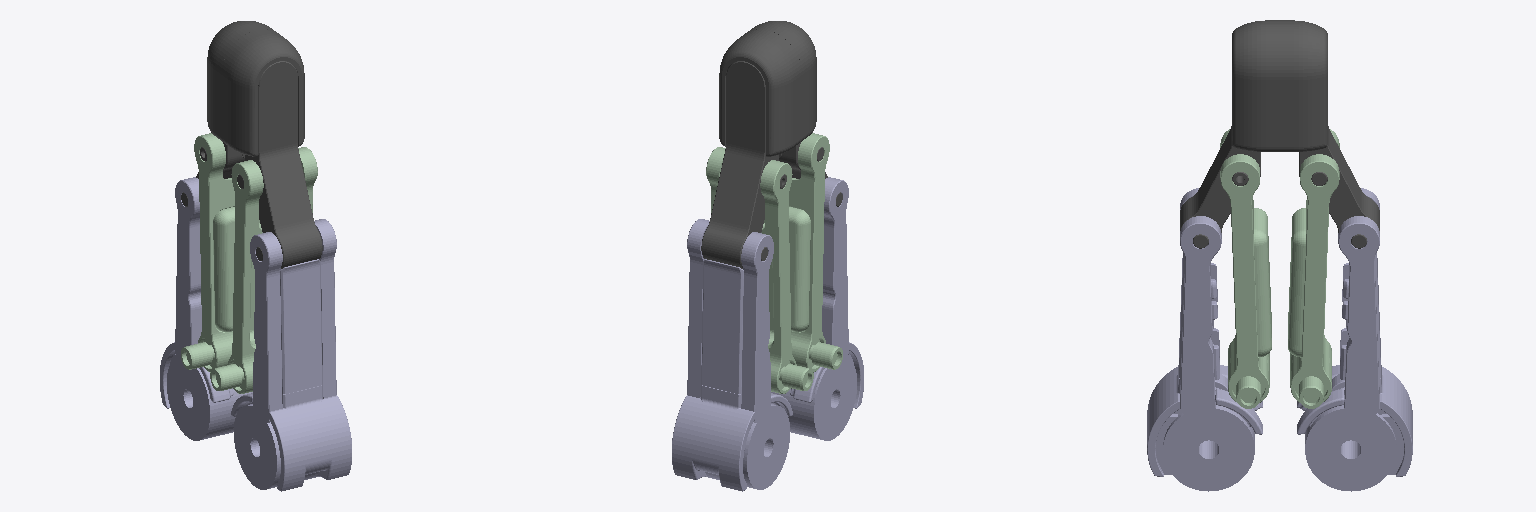
robot.urdf — rg2_gripper:
<?xml version="1.0" ?>
<!-- =================================================================================== -->
<!-- |    This document was autogenerated by xacro from rg2_gripper.xacro              | -->
<!-- |    EDITING THIS FILE BY HAND IS NOT RECOMMENDED                                 | -->
<!-- =================================================================================== -->
<robot name="rg2_gripper">
  <material name="silver_default">
    <color rgba="0.700 0.700 0.700 1.000"/>
  </material>
  <material name="blue_default">
    <color rgba="0.700 0.700 0.800 1.000"/>
  </material>
  <material name="dark_default">
    <color rgba="0.400 0.400 0.400 1.000"/>
  </material>
  <material name="green_default">
    <color rgba="0.700 0.800 0.700 1.000"/>
  </material>


  <link name="base_link">
    <inertial>
      <origin rpy="0 0 0" xyz="-0.00033928396113482284 0.0001550803374992693 0.06397335096404132"/>
      <mass value="0.7151802197889529"/>
      <inertia ixx="0.001268" ixy="0.0" ixz="-1.2e-05" iyy="0.001154" iyz="3e-06" izz="0.000357"/>
    </inertial>
    <visual>
      <origin rpy="0 0 0" xyz="0 0 0"/>
      <geometry>
        <mesh filename="meshes/rg2_gripper/base_link.obj" scale="0.001 0.001 0.001"/>
      </geometry>
      <material name="silver_default"/>
    </visual>
    <collision>
      <origin rpy="0 0 0" xyz="0 0 0"/>
      <geometry>
        <mesh filename="meshes/rg2_gripper/base_link.obj" scale="0.001 0.001 0.001"/>
      </geometry>
    </collision>
  </link>
  <link name="left_outer_link_1">
    <inertial>
      <origin rpy="0 0 0" xyz="0.009999996523330909 0.0017814726549052681 0.012228209292930586"/>
      <mass value="0.03836739327168093"/>
      <inertia ixx="1.4e-05" ixy="0.0" ixz="0.0" iyy="1.4e-05" iyz="-0.0" izz="3e-06"/>
    </inertial>
    <visual>
      <origin rpy="0 0 0" xyz="0.0103 -0.01705 -0.12275"/>
      <geometry>
        <mesh filename="meshes/rg2_gripper/left_outer_link_1.obj" scale="0.001 0.001 0.001"/>
      </geometry>
      <material name="blue_default"/>
    </visual>
    <collision>
      <origin rpy="0 0 0" xyz="0.0103 -0.01705 -0.12275"/>
      <geometry>
        <mesh filename="meshes/rg2_gripper/left_outer_link_1.obj" scale="0.001 0.001 0.001"/>
      </geometry>
    </collision>
  </link>
  <link name="left_finger_link_1">
    <inertial>
      <origin rpy="0 0 0" xyz="0.010012780774690653 -0.010687647568749598 0.027402616106703998"/>
      <mass value="0.02483517715757534"/>
      <inertia ixx="7e-06" ixy="-0.0" ixz="0.0" iyy="6e-06" iyz="2e-06" izz="1e-06"/>
    </inertial>
    <visual>
      <origin rpy="0 0 0" xyz="0.0103 -0.01902 -0.177715"/>
      <geometry>
        <mesh filename="meshes/rg2_gripper/left_finger_link_1.obj" scale="0.001 0.001 0.001"/>
      </geometry>
      <material name="dark_default"/>
    </visual>
    <collision>
      <origin rpy="0 0 0" xyz="0.0103 -0.01902 -0.177715"/>
      <geometry>
        <mesh filename="meshes/rg2_gripper/left_finger_link_1.obj" scale="0.001 0.001 0.001"/>
      </geometry>
    </collision>
  </link>
  <link name="left_inner_link_1">
    <inertial>
      <origin rpy="0 0 0" xyz="0.010005296596915006 -0.0016937268392717038 -0.03516232888579532"/>
      <mass value="0.012641568013611078"/>
      <inertia ixx="5e-06" ixy="0.0" ixz="-0.0" iyy="6e-06" iyz="-0.0" izz="1e-06"/>
    </inertial>
    <visual>
      <origin rpy="0 0 0" xyz="0.0103 -0.00952 -0.194215"/>
      <geometry>
        <mesh filename="meshes/rg2_gripper/left_inner_link_1.obj" scale="0.001 0.001 0.001"/>
      </geometry>
      <material name="green_default"/>
    </visual>
    <collision>
      <origin rpy="0 0 0" xyz="0.0103 -0.00952 -0.194215"/>
      <geometry>
        <mesh filename="meshes/rg2_gripper/left_inner_link_1.obj" scale="0.001 0.001 0.001"/>
      </geometry>
    </collision>
  </link>
  <link name="right_outer_link_1">
    <inertial>
      <origin rpy="0 0 0" xyz="0.010000003486636795 -0.0017814726548893677 0.012228209293019432"/>
      <mass value="0.03836739327185006"/>
      <inertia ixx="1.4e-05" ixy="0.0" ixz="-0.0" iyy="1.4e-05" iyz="0.0" izz="3e-06"/>
    </inertial>
    <visual>
      <origin rpy="0 0 0" xyz="0.0103 0.01695 -0.12275"/>
      <geometry>
        <mesh filename="meshes/rg2_gripper/right_outer_link_1.obj" scale="0.001 0.001 0.001"/>
      </geometry>
      <material name="blue_default"/>
    </visual>
    <collision>
      <origin rpy="0 0 0" xyz="0.0103 0.01695 -0.12275"/>
      <geometry>
        <mesh filename="meshes/rg2_gripper/right_outer_link_1.obj" scale="0.001 0.001 0.001"/>
      </geometry>
    </collision>
  </link>
  <link name="right_finger_link_1">
    <inertial>
      <origin rpy="0 0 0" xyz="0.009987219235276384 0.010687647568778226 0.02740261610670347"/>
      <mass value="0.02483517715757534"/>
      <inertia ixx="7e-06" ixy="-0.0" ixz="-0.0" iyy="6e-06" iyz="-2e-06" izz="1e-06"/>
    </inertial>
    <visual>
      <origin rpy="0 0 0" xyz="0.0103 0.01892 -0.177715"/>
      <geometry>
        <mesh filename="meshes/rg2_gripper/right_finger_link_1.obj" scale="0.001 0.001 0.001"/>
      </geometry>
      <material name="dark_default"/>
    </visual>
    <collision>
      <origin rpy="0 0 0" xyz="0.0103 0.01892 -0.177715"/>
      <geometry>
        <mesh filename="meshes/rg2_gripper/right_finger_link_1.obj" scale="0.001 0.001 0.001"/>
      </geometry>
    </collision>
  </link>
  <link name="right_inner_link_1">
    <inertial>
      <origin rpy="0 0 0" xyz="0.00999470341305246 0.001693726839305438 -0.035162328885795485"/>
      <mass value="0.012641568013611078"/>
      <inertia ixx="5e-06" ixy="0.0" ixz="0.0" iyy="6e-06" iyz="0.0" izz="1e-06"/>
    </inertial>
    <visual>
      <origin rpy="0 0 0" xyz="0.0103 0.00942 -0.194215"/>
      <geometry>
        <mesh filename="meshes/rg2_gripper/right_inner_link_1.obj" scale="0.001 0.001 0.001"/>
      </geometry>
      <material name="green_default"/>
    </visual>
    <collision>
      <origin rpy="0 0 0" xyz="0.0103 0.00942 -0.194215"/>
      <geometry>
        <mesh filename="meshes/rg2_gripper/right_inner_link_1.obj" scale="0.001 0.001 0.001"/>
      </geometry>
    </collision>
  </link>
  <joint name="Rev33" type="revolute">
    <origin rpy="0 0 0" xyz="-0.0103 0.01705 0.12275"/>
    <parent link="base_link"/>
    <child link="left_outer_link_1"/>
    <axis xyz="-1.0 0.0 0.0"/>
    <limit effort="100" lower="0.0" upper="1.343904" velocity="100"/>
  </joint>
  <joint name="Rev29" type="revolute">
    <origin rpy="0 0 0" xyz="0.0 0.00197 0.054965"/>
    <parent link="left_outer_link_1"/>
    <child link="left_finger_link_1"/>
    <axis xyz="1.0 -0.0 -0.0"/>
    <limit effort="200" lower="0.0" upper="1.343904" velocity="100"/>
  </joint>
  <joint name="Rev30" type="revolute">
    <origin rpy="0 0 0" xyz="0.0 -0.0095 0.0165"/>
    <parent link="left_finger_link_1"/>
    <child link="left_inner_link_1"/>
    <axis xyz="-1.0 -0.0 -0.0"/>
    <limit effort="200" lower="0.0" upper="1.343904" velocity="100"/>
  </joint>
  <joint name="Rev28" type="revolute">
    <origin rpy="0 0 0" xyz="-0.0103 -0.01695 0.12275"/>
    <parent link="base_link"/>
    <child link="right_outer_link_1"/>
    <axis xyz="1.0 0.0 0.0"/>
    <limit effort="100" lower="0.0" upper="1.343904" velocity="100"/>
  </joint>
  <joint name="Rev34" type="revolute">
    <origin rpy="0 0 0" xyz="0.0 -0.00197 0.054965"/>
    <parent link="right_outer_link_1"/>
    <child link="right_finger_link_1"/>
    <axis xyz="-1.0 -0.0 -0.0"/>
    <limit effort="200" lower="0.0" upper="1.343904" velocity="100"/>
  </joint>
  <joint name="Rev35" type="revolute">
    <origin rpy="0 0 0" xyz="0.0 0.0095 0.0165"/>
    <parent link="right_finger_link_1"/>
    <child link="right_inner_link_1"/>
    <axis xyz="1.0 0.0 -0.0"/>
    <limit effort="200" lower="0.0" upper="1.343904" velocity="100"/>
  </joint>
</robot>

--- What the picture shows (computed from the rendered views, not written in the file) ---
The picture shows the robot from 3 angles, left to right: view 1: azimuth 30°, elevation 25°; view 2: azimuth 150°, elevation 25°; view 3: azimuth 270°, elevation 25°; orthographic projection.
Robot: rg2_gripper — 7 links, 6 joints (6 revolute); root link base_link; default pose: every joint at zero.
Links seen in each view (by area): view 1: right_outer_link_1, right_finger_link_1, left_outer_link_1, left_inner_link_1, right_inner_link_1, left_finger_link_1; view 2: left_outer_link_1, left_finger_link_1, right_outer_link_1, right_inner_link_1, left_inner_link_1, right_finger_link_1; view 3: right_outer_link_1, left_outer_link_1, right_inner_link_1, left_inner_link_1, left_finger_link_1, right_finger_link_1.
Boxes of the visible links, box(x1,y1,x2,y2) form: right_outer_link_1: box(231, 219, 351, 491); right_finger_link_1: box(222, 29, 322, 268); left_outer_link_1: box(160, 177, 252, 440); left_inner_link_1: box(181, 133, 234, 372); right_inner_link_1: box(210, 147, 317, 393); left_finger_link_1: box(181, 21, 278, 206); left_outer_link_1: box(672, 219, 792, 491); left_finger_link_1: box(701, 29, 801, 268); right_outer_link_1: box(771, 177, 863, 440); right_inner_link_1: box(789, 133, 842, 372); left_inner_link_1: box(706, 147, 813, 393); right_finger_link_1: box(745, 21, 842, 206); right_outer_link_1: box(1147, 188, 1262, 491); left_outer_link_1: box(1297, 188, 1412, 491); right_inner_link_1: box(1220, 129, 1271, 408); left_inner_link_1: box(1288, 129, 1339, 408); left_finger_link_1: box(1280, 20, 1379, 248); right_finger_link_1: box(1180, 20, 1279, 248).
Size in the robot's own frame: 0.0322 by 0.0636 by 0.1188 metres.
Meshes: 7 distinct files referenced, 6 mesh visuals loaded (6 OBJ); not drawn: 1 (reference not matched to a file when rendering).